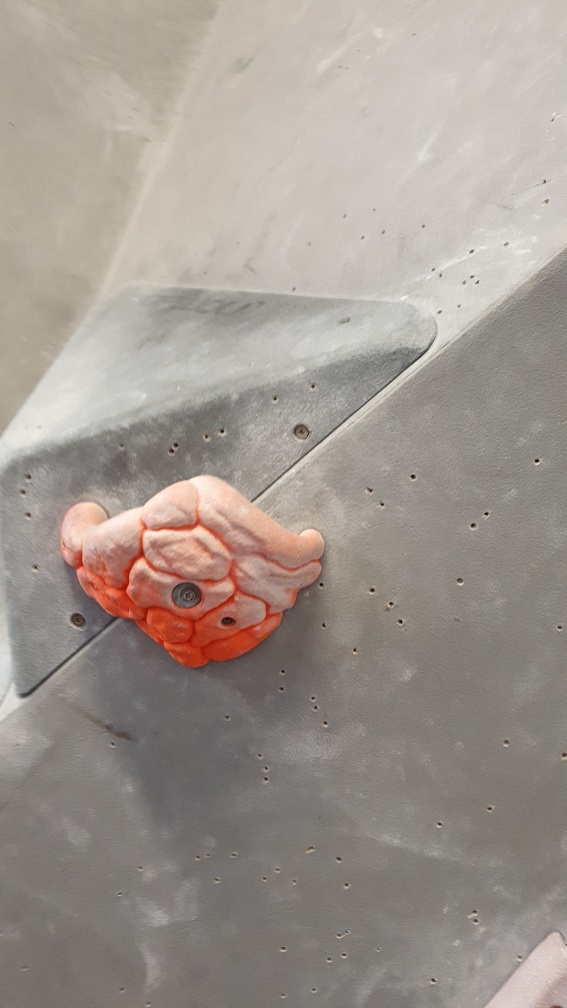Jug: (58, 473, 333, 671)
